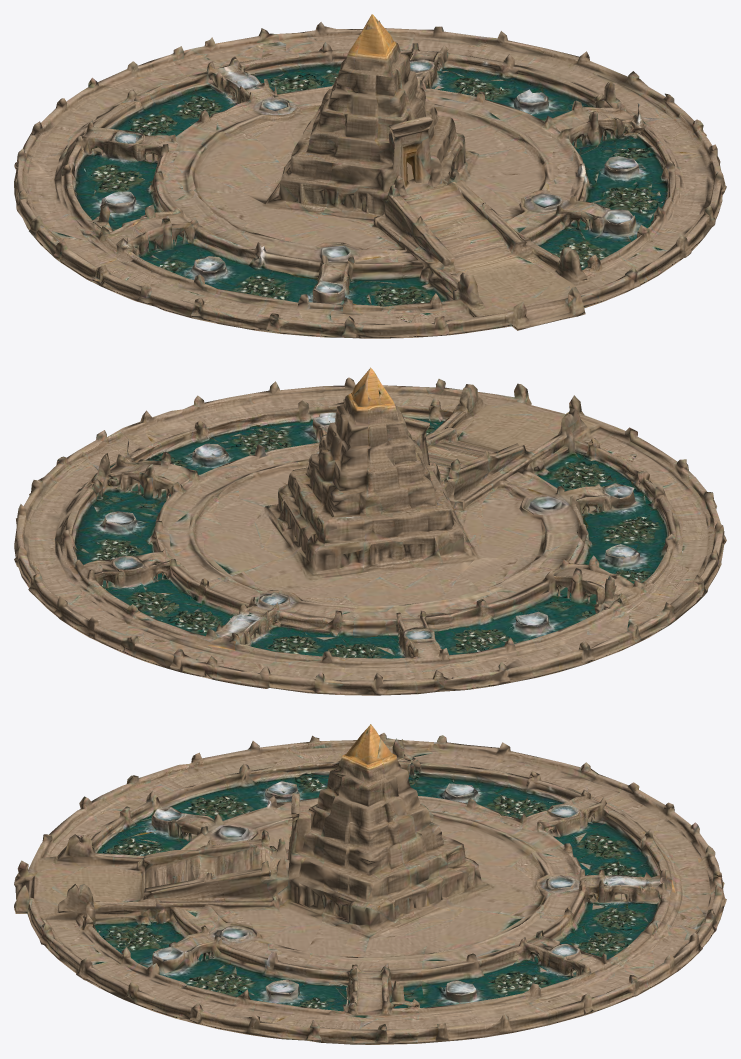
Rendered from pyramid_small.glb.
3 renders of one model, top to bottom at view 1: azimuth 30°, elevation 25°; view 2: azimuth 150°, elevation 25°; view 3: azimuth 270°, elevation 25°, orthographic.
Bounding box in the file's own units: 1.88 × 0.512 × 1.9.
1 material, 1 textured.
